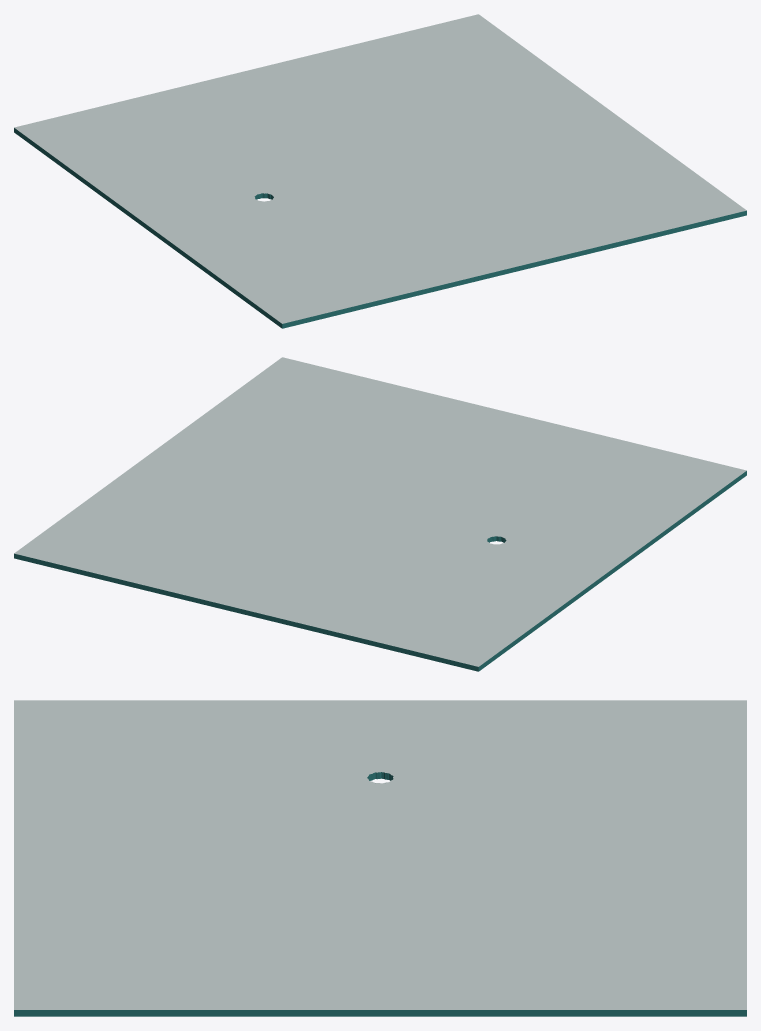
The model's file is IceWarpedHole.fbx.
3 renders of one model, top to bottom at view 1: azimuth 30°, elevation 25°; view 2: azimuth 150°, elevation 25°; view 3: azimuth 270°, elevation 25°, orthographic. The views are drawn at different scales.
Parts seen in each view (by area): view 1: IceWithWarpedHole; view 2: IceWithWarpedHole; view 3: IceWithWarpedHole.
Part boxes in pixels (x1,y1,x2,y2): IceWithWarpedHole: (14, 14, 746, 328); IceWithWarpedHole: (14, 357, 746, 671); IceWithWarpedHole: (14, 700, 746, 1016).
Bounding box in the file's own units: 100 × 1 × 100.
